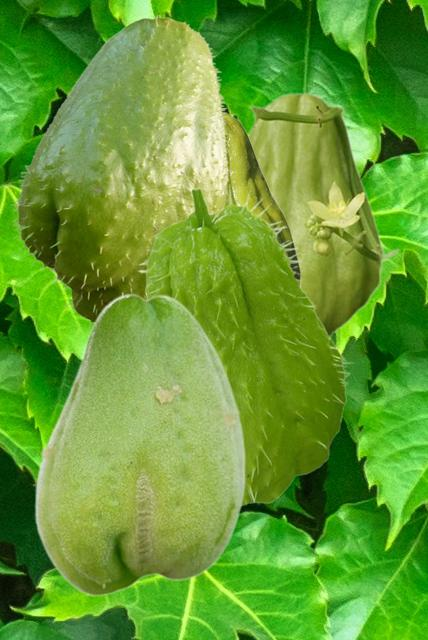sayote: (137, 183, 352, 505), (10, 15, 230, 327), (33, 292, 245, 595), (247, 92, 400, 338), (224, 111, 300, 278)
